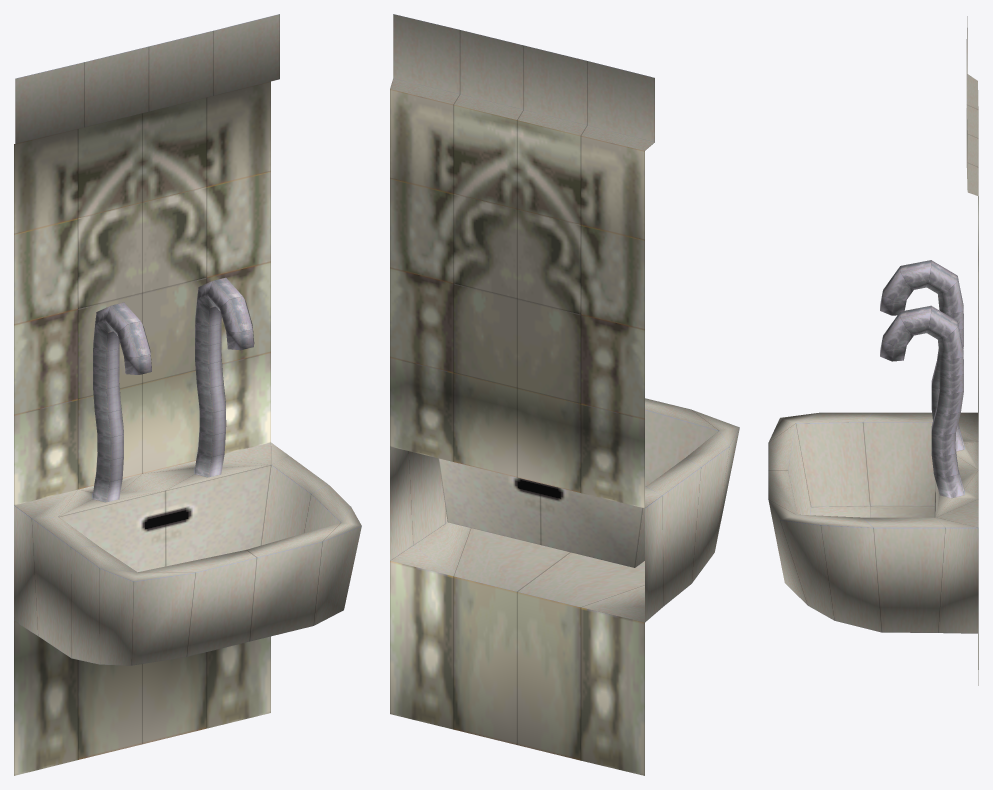
3 views of the same model, side by side, from view 1: azimuth 30°, elevation 25°; view 2: azimuth 150°, elevation 25°; view 3: azimuth 270°, elevation 25° (orthographic). The views are drawn at different scales.
Visible parts, largest first — view 1: T1L5M006_8; view 2: T1L5M006_8; view 3: T1L5M006_8.
Part boxes in pixels (box(x1,y1,x2,y2)): T1L5M006_8: box(14, 14, 361, 775); T1L5M006_8: box(390, 14, 739, 775); T1L5M006_8: box(768, 16, 978, 685).
Size of the model in its own units: 0.9199 by 2.33 by 0.6895.
